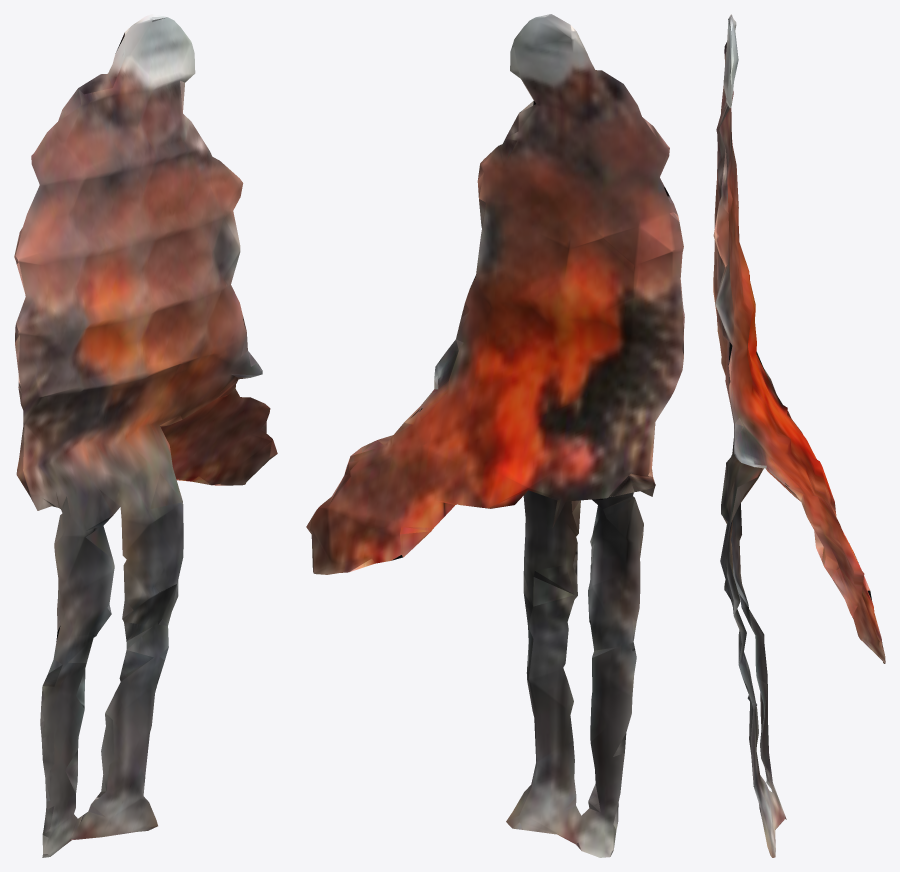
3 renders of one model, left to right at view 1: azimuth 30°, elevation 25°; view 2: azimuth 150°, elevation 25°; view 3: azimuth 270°, elevation 25°, orthographic. The views are drawn at different scales.
Visible parts, largest first — view 1: world; view 2: world; view 3: world.
Boxes of the visible parts, bbox=[...] form: world: bbox=[14, 14, 277, 857]; world: bbox=[306, 14, 684, 857]; world: bbox=[713, 14, 885, 857].
Size of the model in its own units: 0.2042 by 0.5002 by 0.0934.
Materials: 1 (1 with a texture image).
